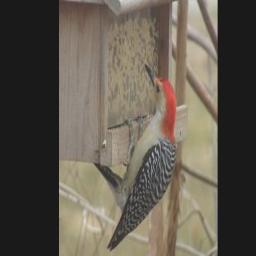Woodpecker: (99, 62, 180, 245)
